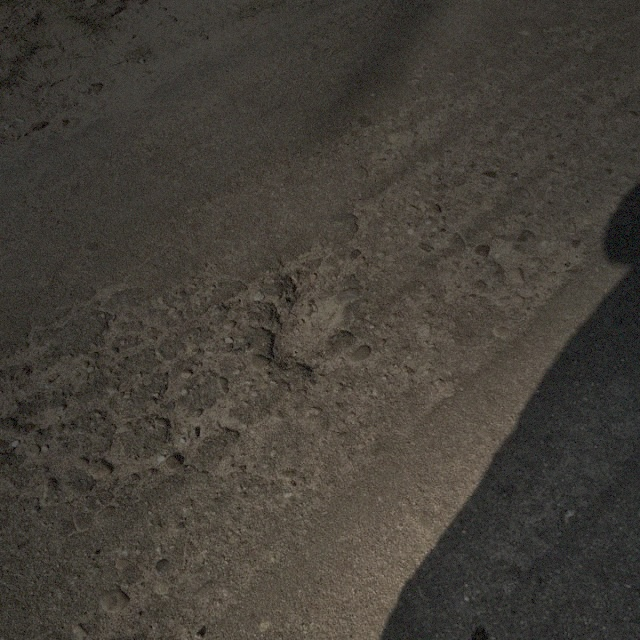pothole: (262, 279, 342, 373)
